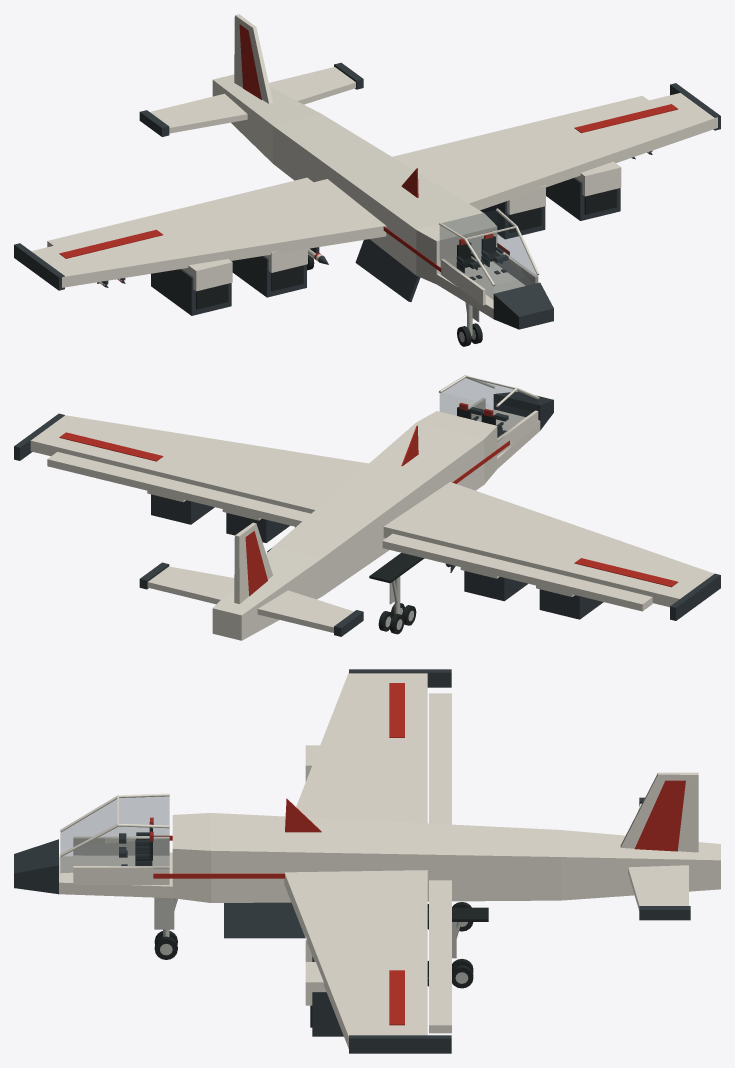
The picture shows the model from 3 angles, top to bottom: view 1: azimuth 30°, elevation 25°; view 2: azimuth 150°, elevation 25°; view 3: azimuth 270°, elevation 25°; orthographic projection. The views are drawn at different scales.
Parts seen in each view (by area): view 1: bomber-fleet-armor, bomber-fleet-machine, bomber-fleet-glass, bomber-fleet-red, bomber-fleet-rubber, flap-left-painted, flap-right-painted, crew-chair-copilot-painted, crew-chair-pilot-painted; view 2: bomber-fleet-armor, bomber-fleet-machine, flap-left-painted, flap-right-painted, bomber-fleet-glass, bomber-fleet-red, bomber-fleet-rubber; view 3: bomber-fleet-armor, bomber-fleet-machine, bomber-fleet-glass, bomber-fleet-red, flap-right-painted, flap-left-painted, landing-gear-nose-painted, bomber-fleet-rubber.
Boxes of the visible parts, x1,y1,x2,y2 form: bomber-fleet-armor: [31, 14, 717, 318]; bomber-fleet-machine: [14, 62, 720, 329]; bomber-fleet-glass: [440, 210, 537, 299]; bomber-fleet-red: [59, 24, 678, 272]; bomber-fleet-rubber: [196, 189, 616, 309]; flap-left-painted: [47, 177, 313, 247]; flap-right-painted: [392, 95, 648, 161]; crew-chair-copilot-painted: [481, 231, 508, 274]; crew-chair-pilot-painted: [456, 237, 483, 280]; bomber-fleet-armor: [30, 375, 714, 640]; bomber-fleet-machine: [14, 391, 720, 636]; flap-left-painted: [382, 533, 652, 611]; flap-right-painted: [47, 452, 310, 526]; bomber-fleet-glass: [440, 377, 537, 441]; bomber-fleet-red: [59, 425, 678, 596]; bomber-fleet-rubber: [267, 547, 423, 583]; bomber-fleet-armor: [59, 672, 720, 1048]; bomber-fleet-machine: [14, 669, 690, 1053]; bomber-fleet-glass: [60, 796, 169, 872]; bomber-fleet-red: [153, 683, 685, 1025]; flap-right-painted: [429, 880, 451, 1033]; flap-left-painted: [429, 693, 451, 824]; landing-gear-nose-painted: [154, 897, 177, 936]; bomber-fleet-rubber: [310, 907, 488, 1027].
Bounding box in the file's own units: 156 × 35.86 × 126.
